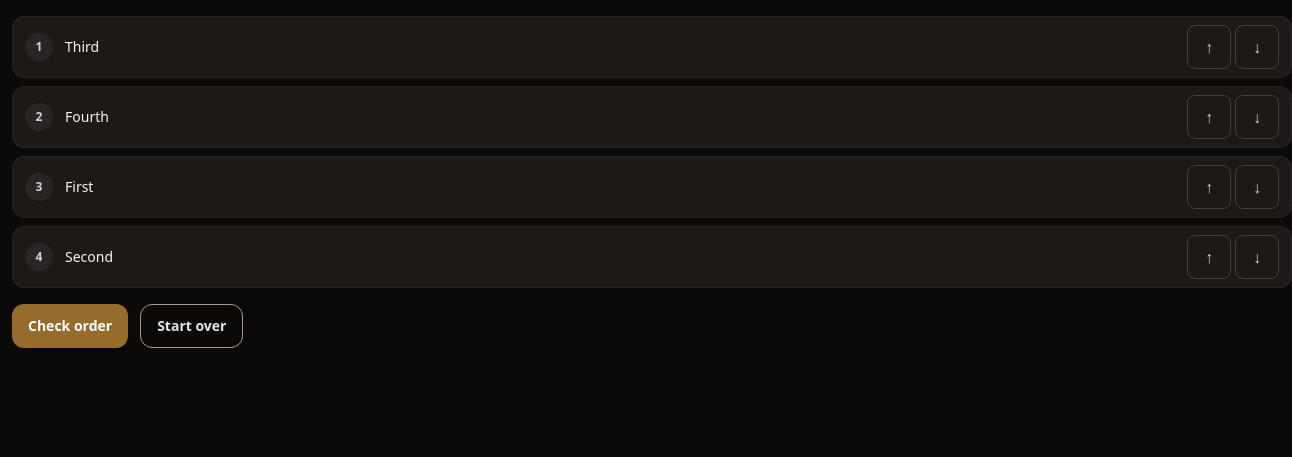
OrderStepsComponent › clears the result when a step is moved after checking
This screenshot has width=1292, height=457.
Click the button "Check order": (70, 326) [12,304,128,348]
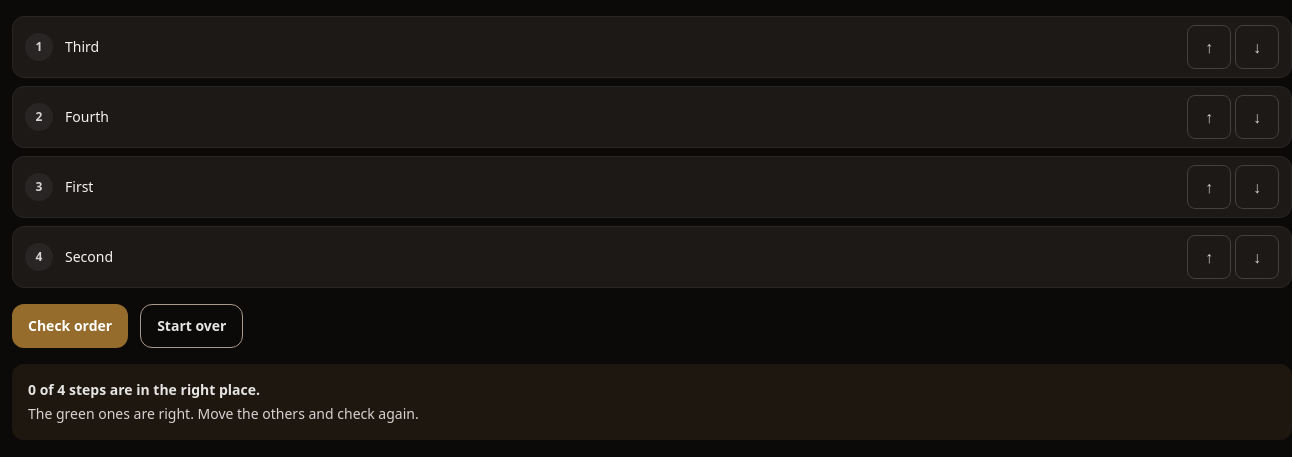
Click the button "↓" in the row of "Third": (1257, 47) [1235,25,1279,69]
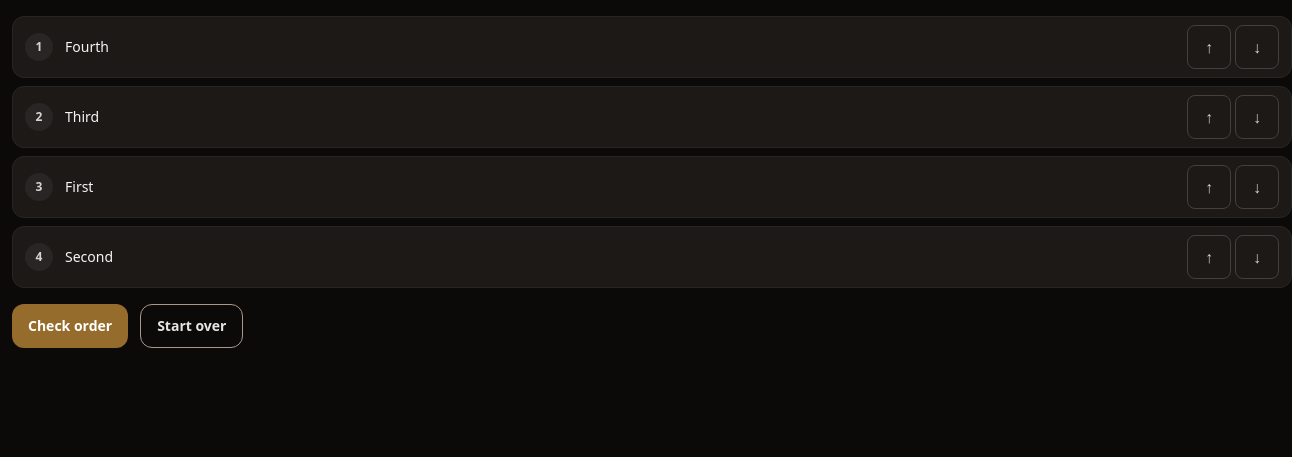
Now the message with test id "order-result" is gone
